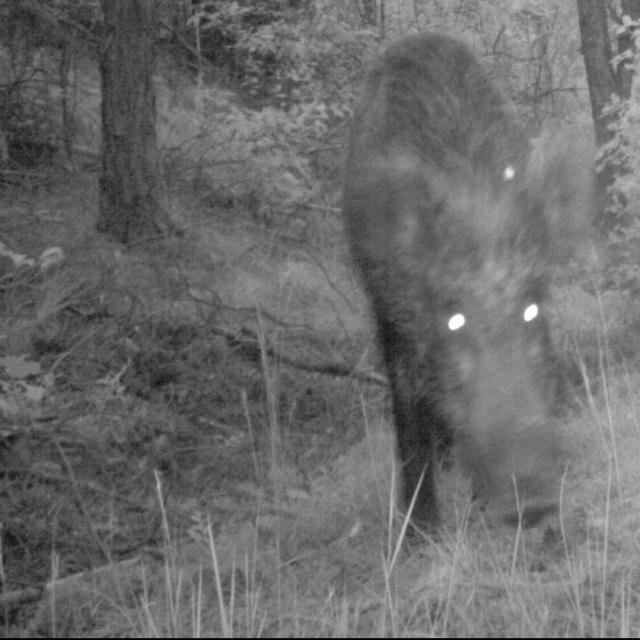pig: (325, 51, 619, 594)
